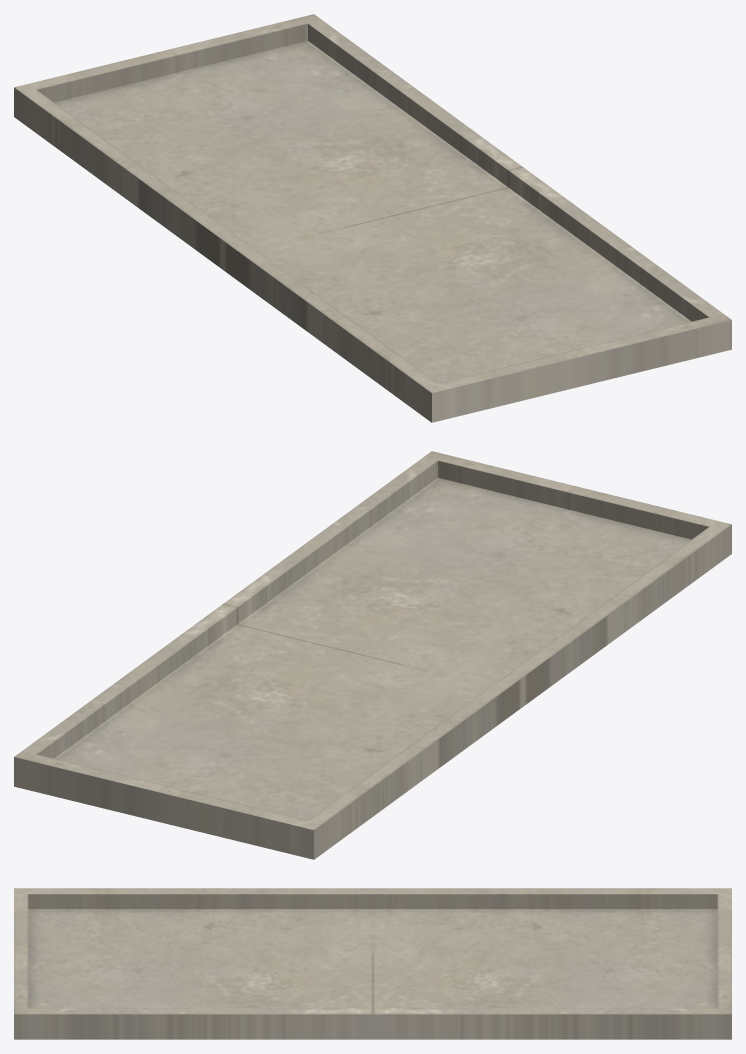
File: Props_Petanque_1.fbx
3 renders of one model, top to bottom at view 1: azimuth 30°, elevation 25°; view 2: azimuth 150°, elevation 25°; view 3: azimuth 270°, elevation 25°, orthographic. The views are drawn at different scales.
Parts seen in each view (by area): view 1: Props_Petanque_1; view 2: Props_Petanque_1; view 3: Props_Petanque_1.
Part boxes in pixels (left/top/right/bottom): Props_Petanque_1: left=14, top=14, right=731, bottom=422; Props_Petanque_1: left=14, top=451, right=731, bottom=859; Props_Petanque_1: left=14, top=888, right=731, bottom=1039.
Size of the model in its own units: 838 by 79.08 by 2020.
